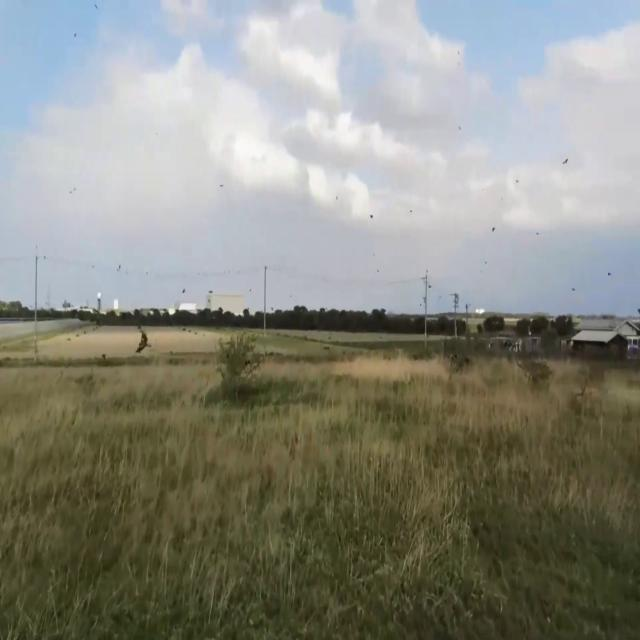bird: (562, 149, 568, 172)
